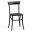chair: (5, 1, 28, 32)
